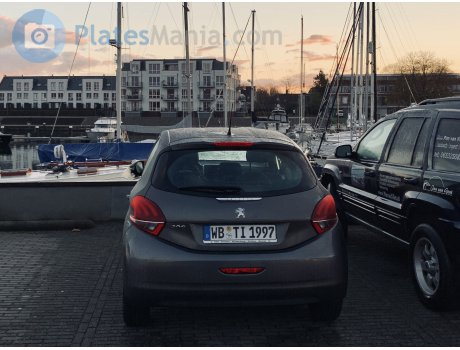License Plates: (208, 225, 279, 237)
